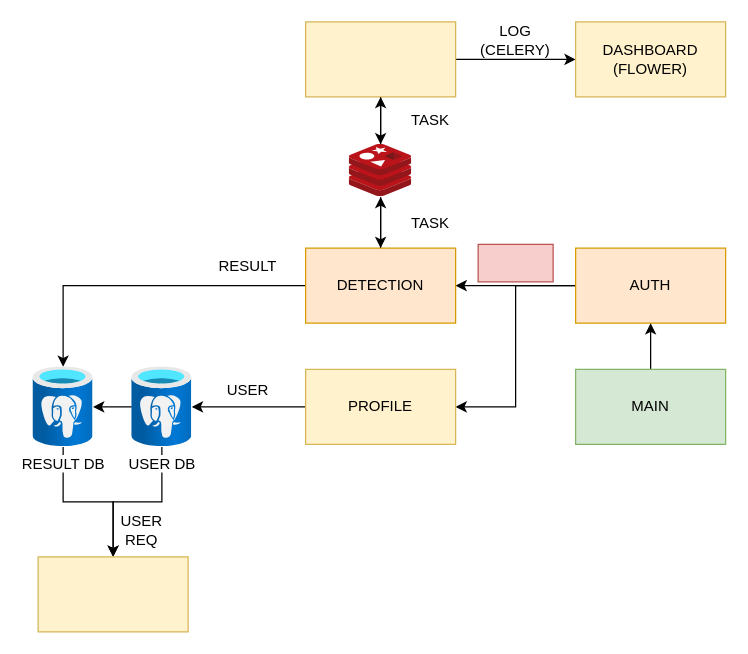
Image size: 748x654. Some labels were removed from this diagram. The shapes that lost their labels are listed below. From the top down, each one's centre as x and y in pixels, then its label:
(x=380, y=59): ML (CELERY WORKER)
(x=515, y=262): TOKEN
(x=112, y=594): HISTORY OF REQ
